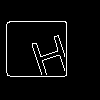H: (25, 25, 74, 80)
